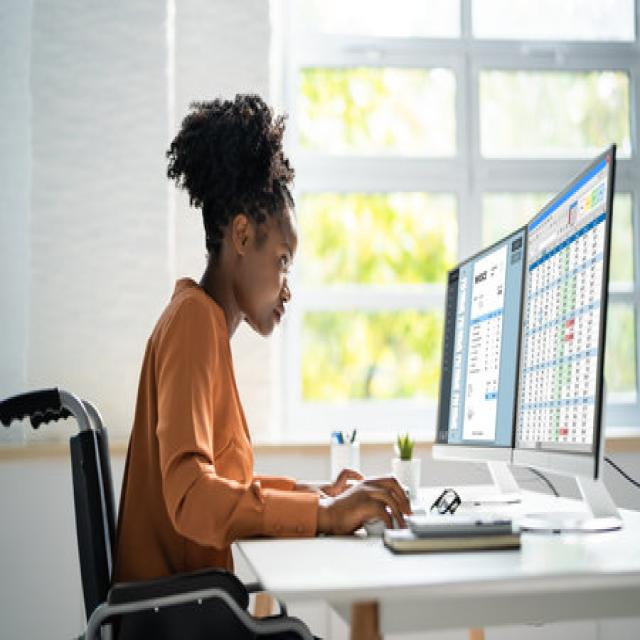desktop-person: (104, 79, 618, 640)
